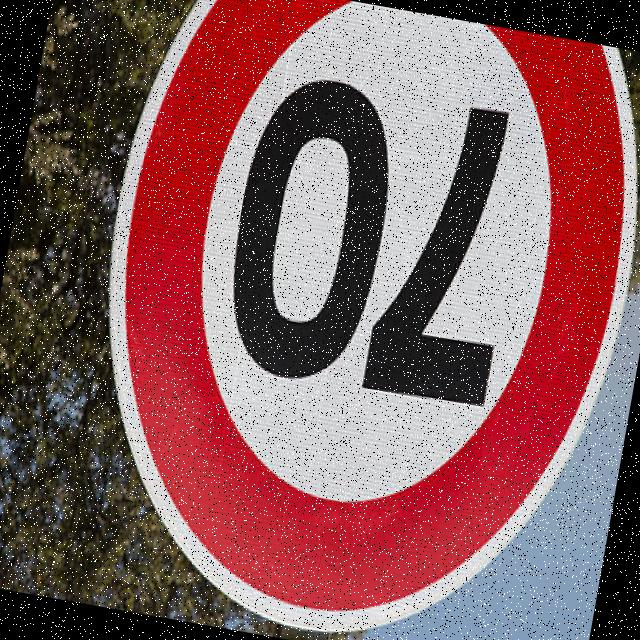speed_limit_70: (45, 0, 640, 640)
